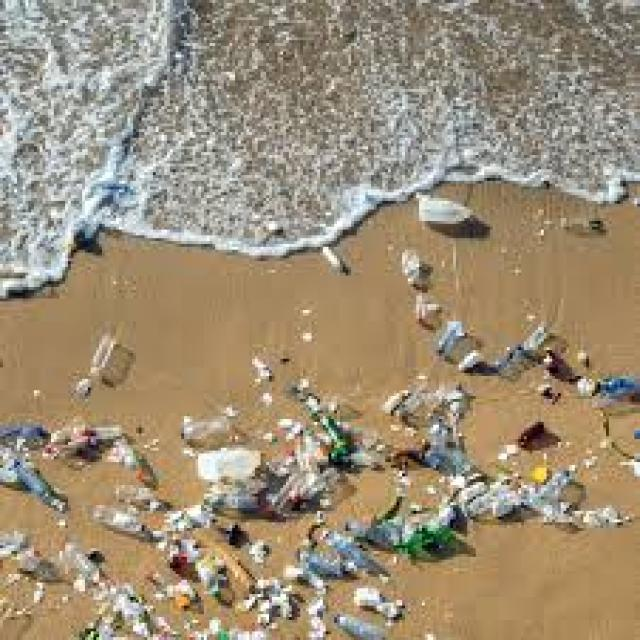garbage: (4, 305, 640, 640)
